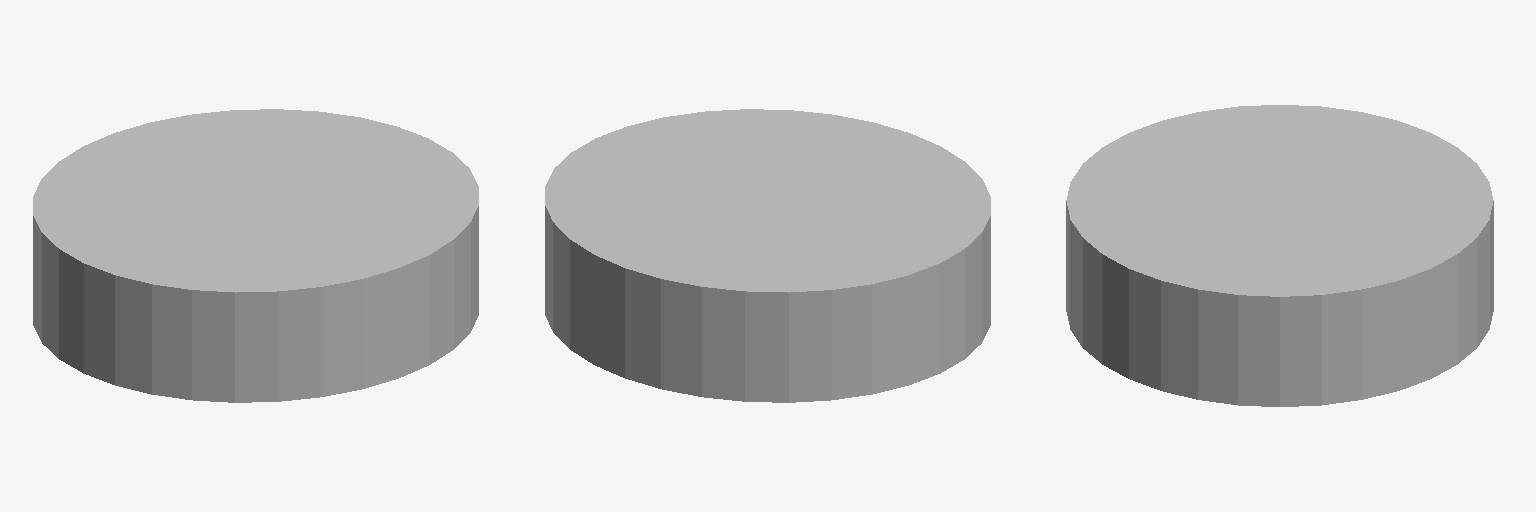
Rendered from tree stump 4.obj.
The picture shows the model from 3 angles: view 1: azimuth 30°, elevation 25°; view 2: azimuth 150°, elevation 25°; view 3: azimuth 270°, elevation 25°; orthographic projection.
Visible parts, largest first — view 1: Cylinder; view 2: Cylinder; view 3: Cylinder.
Boxes of the visible parts, <box> form: Cylinder: <box>33,109,478,402</box>; Cylinder: <box>545,109,990,402</box>; Cylinder: <box>1066,105,1493,406</box>.
Bounding box in the file's own units: 3.61 × 0.9673 × 3.39.